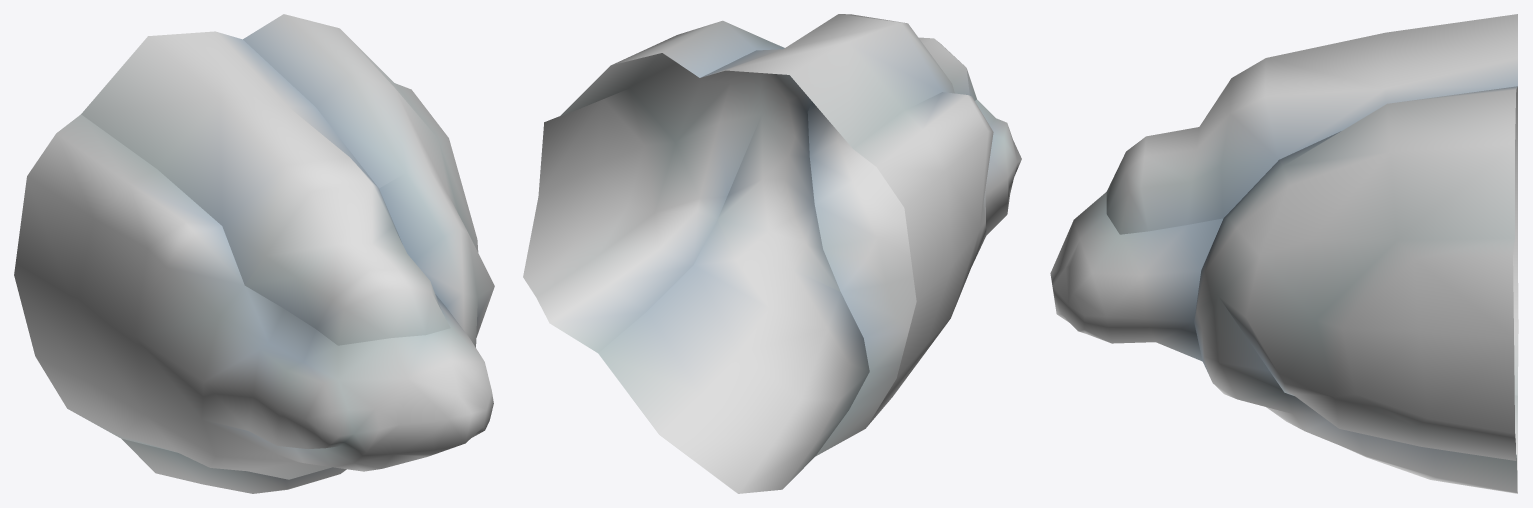
Rendered from Rocks_Snow_LargeA_lod.glb.
3 views of the same model, side by side, from view 1: azimuth 30°, elevation 25°; view 2: azimuth 150°, elevation 25°; view 3: azimuth 270°, elevation 25° (orthographic). The views are drawn at different scales.
Parts seen in each view (by area): view 1: MeshNode_0; view 2: MeshNode_0; view 3: MeshNode_0.
Part boxes in pixels (x1,y1,x2,y2): MeshNode_0: (14, 14, 494, 493); MeshNode_0: (523, 14, 1021, 493); MeshNode_0: (1050, 14, 1518, 493).
Size of the model in its own units: 15.31 by 15.99 by 14.95.
